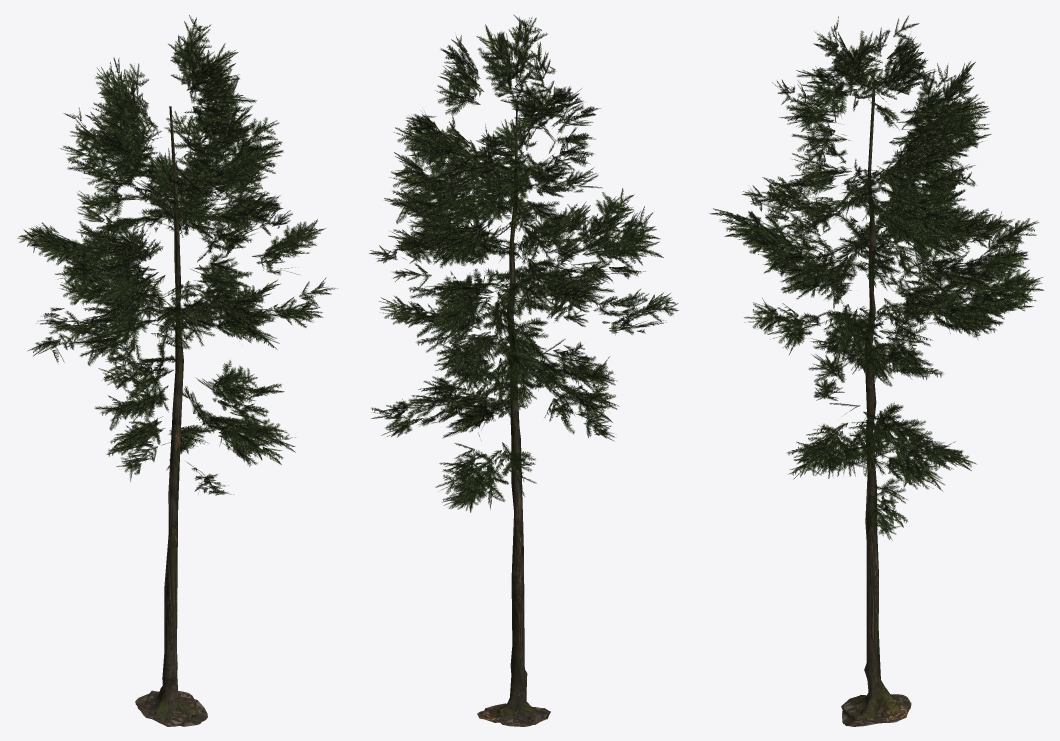
The model's file is fir_tree_01_b_far.glb.
3 views of the same model, side by side, from view 1: azimuth 30°, elevation 25°; view 2: azimuth 150°, elevation 25°; view 3: azimuth 270°, elevation 25° (orthographic). The views are drawn at different scales.
Parts seen in each view (by area): view 1: fir_tree_01_b_far; view 2: fir_tree_01_b_far; view 3: fir_tree_01_b_far.
Boxes of the visible parts, box(x1,y1,x2,y2) form: fir_tree_01_b_far: box(17, 15, 337, 726); fir_tree_01_b_far: box(369, 14, 678, 726); fir_tree_01_b_far: box(709, 15, 1043, 726).
Size of the model in its own units: 5.63 by 13.96 by 6.05.
2 materials, 2 textured.
